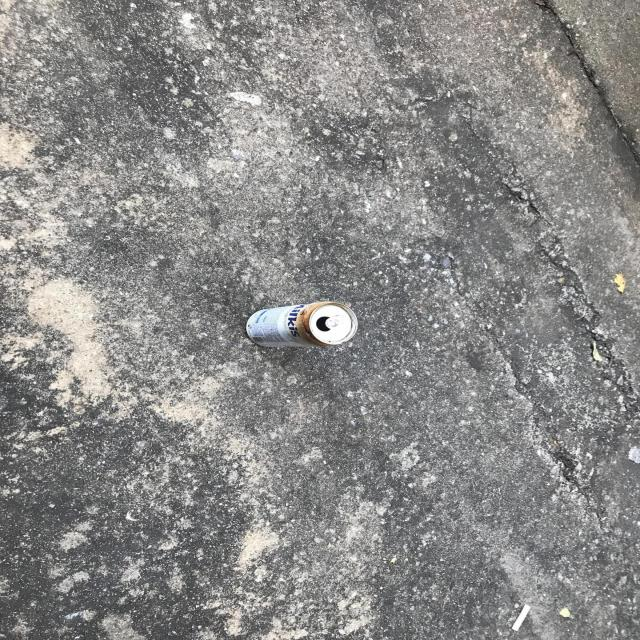can: (246, 302, 358, 347)
